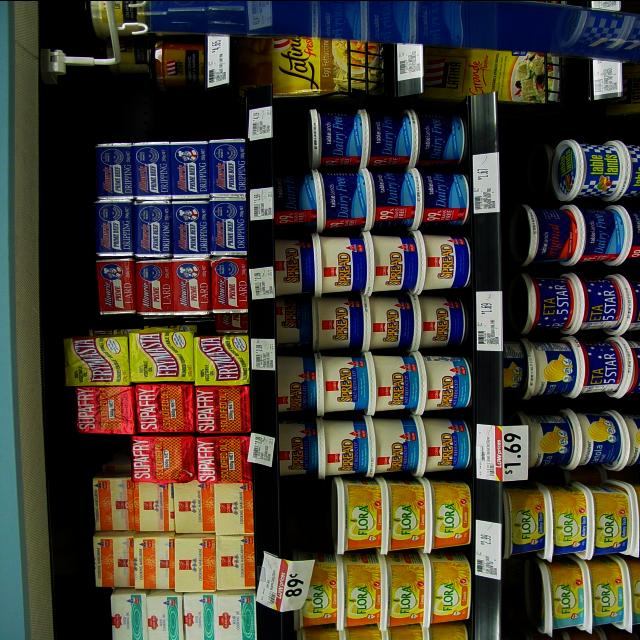empty_space: (85, 93, 239, 136), (291, 478, 329, 537)
